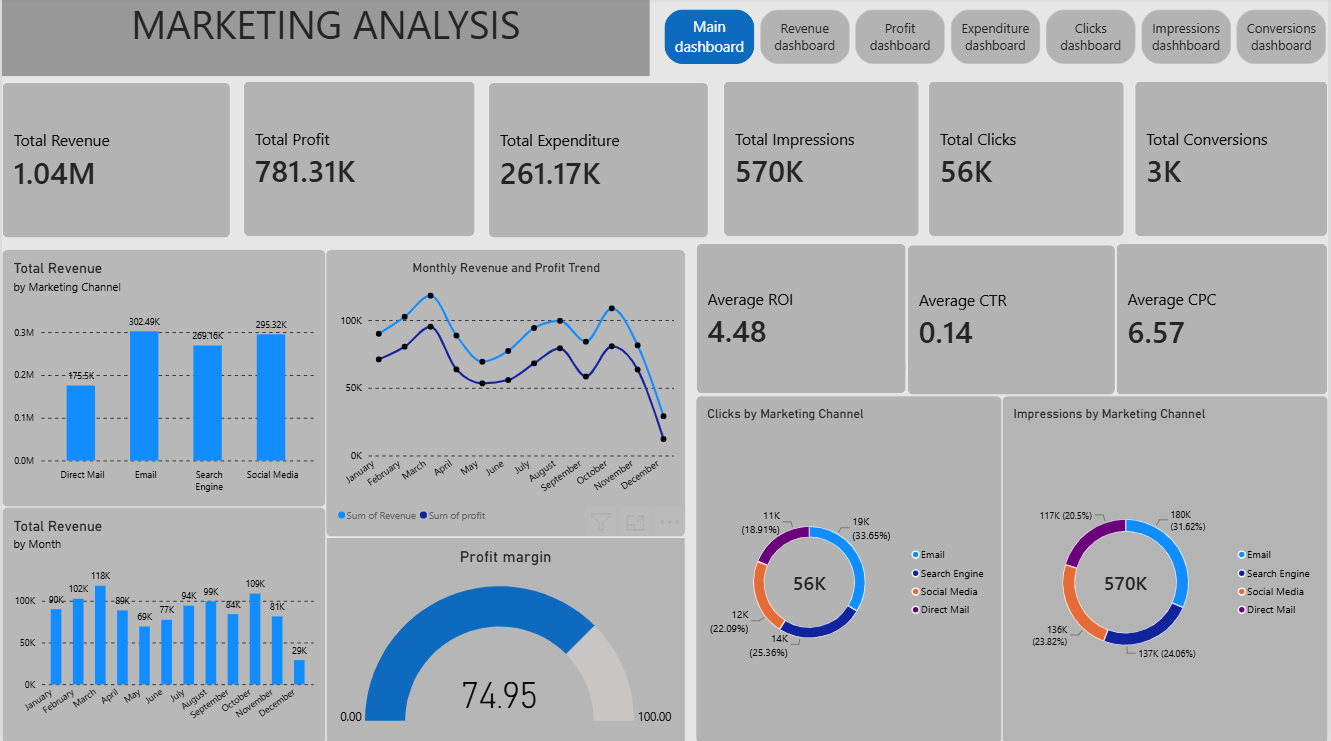

Layout of this report page (visuals, bound fields, positions):
{"tool":"powerbi","page":{"name":"main dashboard","canvas":[1920,1080],"ordinal":0},"visuals":[{"type":"cardVisual","fields":{"Data":["Sum(Sheet1.Revenue)"]},"box":[0,123.1,331.2,226.2],"z":0},{"type":"cardVisual","fields":{"Data":["Sum(Sheet1.profit)"]},"box":[349.3,121.2,336.6,226.2],"z":1000},{"type":"cardVisual","fields":{"Data":["Sum(Sheet1.Spend)"]},"box":[704,123.1,319,226.4],"z":2000},{"type":"cardVisual","fields":{"Data":["Sum(Sheet1.Impressions)"]},"box":[1044.2,121.2,284,226.4],"z":3000},{"type":"cardVisual","fields":{"Data":["Sum(Sheet1.Clicks)"]},"box":[1341,121.2,284,226.4],"z":4000},{"type":"cardVisual","fields":{"Data":["Sum(Sheet1.Conversions)"]},"box":[1639.6,121.2,280.5,226.2],"z":5000},{"type":"gauge","fields":{"Y":["Sheet1.profit margin"]},"box":[468.7,781.8,521.2,298.6],"z":6000},{"type":"cardVisual","fields":{"Data":["Avg(Sheet1.CTR)"]},"box":[1310.2,358.3,302.2,219],"z":7000},{"type":"cardVisual","fields":{"Data":["Avg(Sheet1.CPC)"]},"box":[1612.4,356.5,307.6,220.8],"z":8000},{"type":"columnChart","fields":{"Category":["Sheet1.Marketing_Channel"],"Y":["Sum(Sheet1.Revenue)"]},"box":[0,365.6,468.7,372.8],"z":9000},{"type":"lineChart","title":"Monthly Revenue and Profit Trend","fields":{"Category":["Sheet1.Month Name"],"Y":["Sum(Sheet1.Revenue)","Sum(Sheet1.profit)"]},"box":[468.7,365.6,521.2,416.2],"z":10000},{"type":"donutChart","title":"Impressions by Marketing Channel","fields":{"Category":["Sheet1.Marketing_Channel"],"Y":["Sum(Sheet1.Impressions)"]},"box":[1447.7,577.3,472.3,503.1],"z":11000},{"type":"donutChart","title":"Clicks by Marketing Channel","fields":{"Category":["Sheet1.Marketing_Channel"],"Y":["Sum(Sheet1.Clicks)"]},"box":[1004.4,577.3,443.4,503.1],"z":12000},{"type":"textbox","box":[0,0,937.4,114],"z":13000},{"type":"columnChart","title":"Total Revenue","fields":{"Category":["Sheet1.Month Name"],"Y":["Sum(Sheet1.Revenue)"]},"box":[0,738.3,468.7,342],"z":14000},{"type":"bookmarkNavigator","box":[959.1,18.1,960.9,79.6],"z":15000},{"type":"cardVisual","fields":{"Data":["Avg(Sheet1.ROI)"]},"box":[1003.6,355.6,305.8,219],"z":16000}]}

Visuals, with their boxes in screenshot pixels (x1, y1, x2, y2), scaled from the page's 1920x1080 canvas onto the 1331x741 screenshot:
cardVisual - Sum(Sheet1.Revenue): left=0, top=84, right=230, bottom=240
cardVisual - Sum(Sheet1.profit): left=242, top=83, right=475, bottom=238
cardVisual - Sum(Sheet1.Spend): left=488, top=84, right=709, bottom=240
cardVisual - Sum(Sheet1.Impressions): left=724, top=83, right=921, bottom=238
cardVisual - Sum(Sheet1.Clicks): left=930, top=83, right=1126, bottom=238
cardVisual - Sum(Sheet1.Conversions): left=1137, top=83, right=1330, bottom=238
gauge - Sheet1.profit margin: left=325, top=536, right=686, bottom=740
cardVisual - Avg(Sheet1.CTR): left=908, top=246, right=1118, bottom=396
cardVisual - Avg(Sheet1.CPC): left=1118, top=245, right=1330, bottom=396
columnChart - Sheet1.Marketing_Channel x Sum(Sheet1.Revenue): left=0, top=251, right=325, bottom=507
"Monthly Revenue and Profit Trend" lineChart: left=325, top=251, right=686, bottom=536
"Impressions by Marketing Channel" donutChart: left=1004, top=396, right=1330, bottom=740
"Clicks by Marketing Channel" donutChart: left=696, top=396, right=1004, bottom=740
textbox: left=0, top=0, right=650, bottom=78
"Total Revenue" columnChart: left=0, top=507, right=325, bottom=740
bookmarkNavigator: left=665, top=12, right=1330, bottom=67
cardVisual - Avg(Sheet1.ROI): left=696, top=244, right=908, bottom=394
